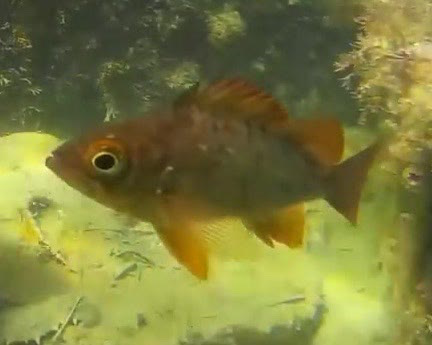mebaru: (47, 69, 384, 265)
